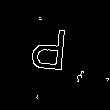P_S: (34, 28, 76, 82)
